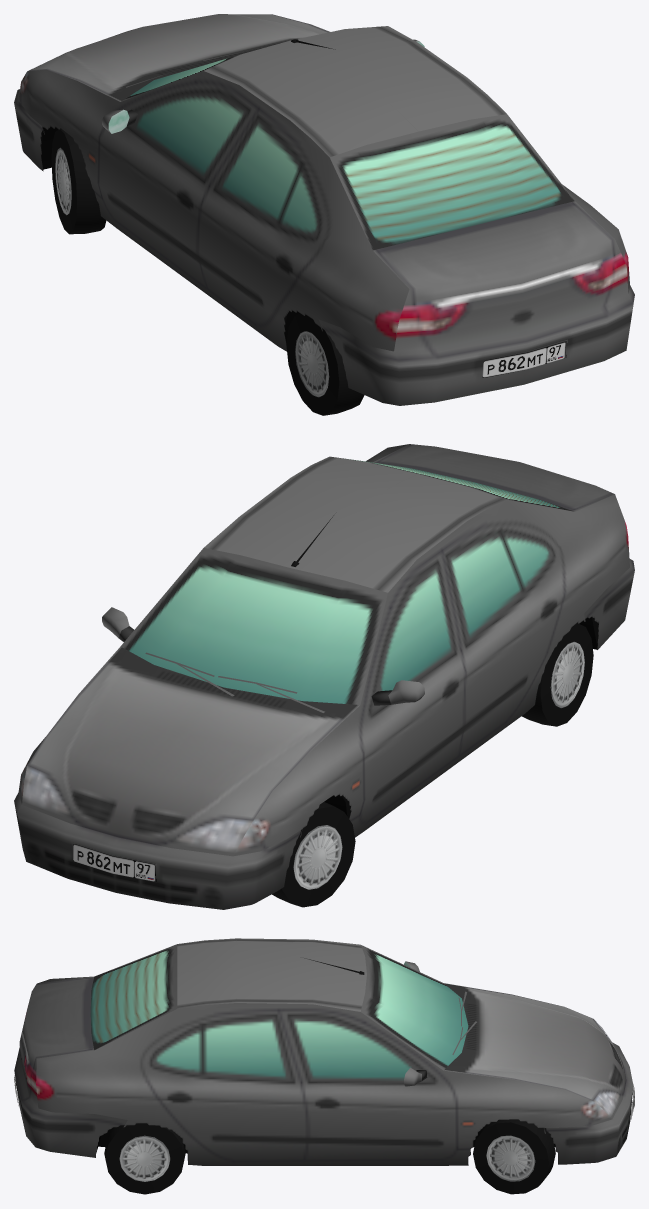
Rendered from Auto_megane.fbx.
3 views of the same model, one above another, from view 1: azimuth 30°, elevation 25°; view 2: azimuth 150°, elevation 25°; view 3: azimuth 270°, elevation 25° (orthographic). The views are drawn at different scales.
Parts seen in each view (by area): view 1: lq_sides; view 2: lq_sides; view 3: lq_sides.
Boxes of the visible parts, x1=… form: lq_sides: x1=14, y1=14, x2=634, y2=415; lq_sides: x1=14, y1=444, x2=634, y2=909; lq_sides: x1=14, y1=938, x2=634, y2=1194.
Bounding box in the file's own units: 1.96 × 1.52 × 4.45.
